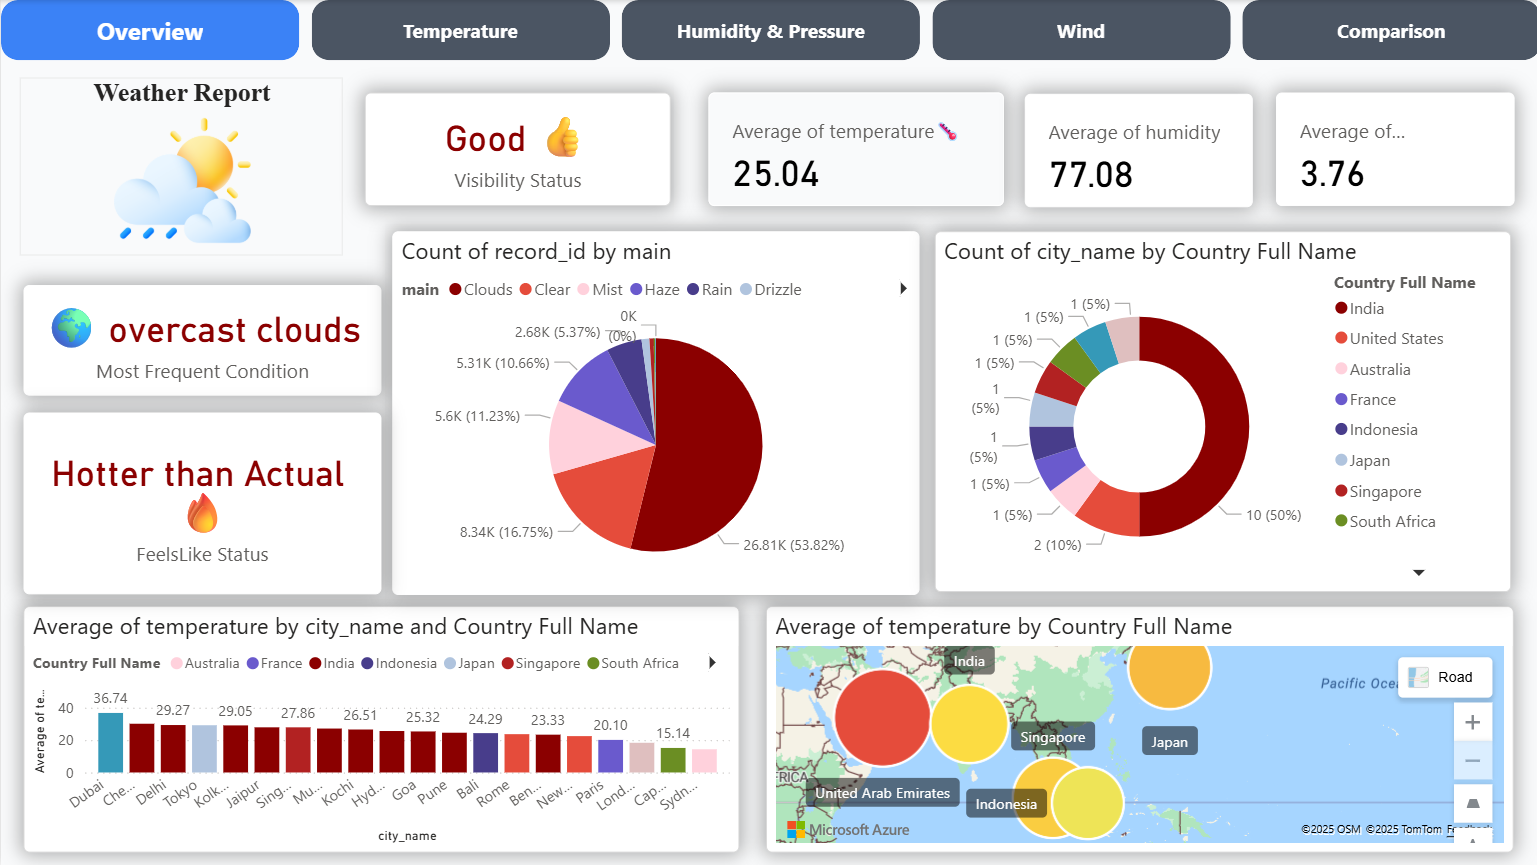

What the dashboard file says about the page in this screenshot:
{"tool":"powerbi","page":{"name":"Overview","canvas":[1280,720],"ordinal":0},"visuals":[{"type":"cardVisual","title":"Average of temperature","fields":{"Data":["Avg(public weather_records (2).temperature)"]},"box":[588.4,76.7,245.3,94.2],"z":0},{"type":"cardVisual","fields":{"Data":["Avg(public weather_records (2).humidity)"]},"box":[851.2,77.9,189.5,94.2],"z":1000},{"type":"cardVisual","fields":{"Data":["Avg(public wind_data (2).wind_speed)"]},"box":[1059.8,76.4,198.2,94.6],"z":2000},{"type":"card","fields":{"Values":["public weather_records.Most Frequent Condition"]},"box":[18.6,237.2,297.7,91.9],"z":3000},{"type":"azureMap","fields":{"Category":["public cities.Country Full Name"],"Size":["Avg(public weather_records.temperature)"]},"box":[636.1,504,621.9,204.7],"z":4000},{"type":"columnChart","fields":{"Category":["public cities.city_name"],"Y":["Avg(public weather_records.temperature)"],"Series":["public cities.Country Full Name"]},"box":[18.8,503.8,595,205],"z":5000},{"type":"pieChart","fields":{"Category":["public weather_conditions.main"],"Y":["CountNonNull(public weather_records.record_id)"]},"box":[325.6,191.9,438.4,302.3],"z":6000},{"type":"donutChart","fields":{"Category":["public cities.Country Full Name"],"Y":["CountNonNull(public cities.city_name)"]},"box":[776.7,191.9,479.1,300],"z":7000},{"type":"pageNavigator","box":[0,0,1280.2,50],"z":8000},{"type":"image","title":"Weather Report","box":[15.1,64,269.8,147.7],"z":9000},{"type":"card","fields":{"Values":["public weather_records.Visibility Status"]},"box":[302.3,76.7,254.7,94.2],"z":10000},{"type":"card","fields":{"Values":["public weather_records.FeelsLike Status"]},"box":[18.6,343,297.7,151.2],"z":11000}]}

Visuals, with their boxes in screenshot pixels (x1, y1, x2, y2), scaled from the page's 1280x720 canvas onto the 1537x865 screenshot:
"Average of temperature" cardVisual: 707, 92, 1001, 205
cardVisual - Avg(public weather_records (2).humidity): 1022, 94, 1250, 207
cardVisual - Avg(public wind_data (2).wind_speed): 1273, 92, 1511, 205
card - public weather_records.Most Frequent Condition: 22, 285, 380, 395
azureMap - public cities.Country Full Name x Avg(public weather_records.temperature): 764, 606, 1511, 851
columnChart - public cities.city_name x Avg(public weather_records.temperature): 23, 605, 737, 852
pieChart - public weather_conditions.main x CountNonNull(public weather_records.record_id): 391, 231, 917, 594
donutChart - public cities.Country Full Name x CountNonNull(public cities.city_name): 933, 231, 1508, 591
pageNavigator: 0, 0, 1536, 60
"Weather Report" image: 18, 77, 342, 254
card - public weather_records.Visibility Status: 363, 92, 669, 205
card - public weather_records.FeelsLike Status: 22, 412, 380, 594
